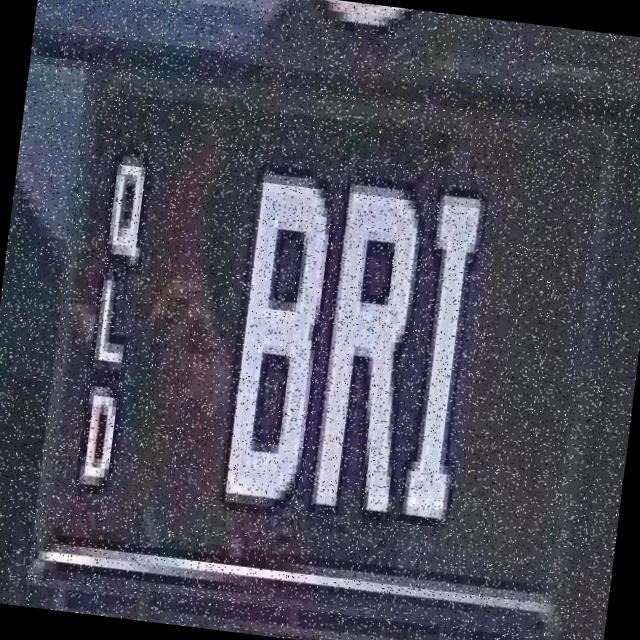LicensePlate: (37, 61, 619, 608)
